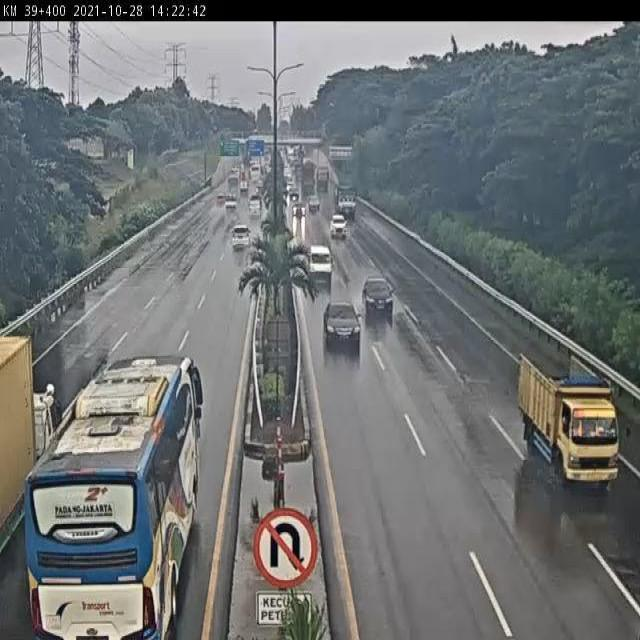bus-l-: (25, 356, 203, 640)
truck-s-: (518, 346, 618, 491)
